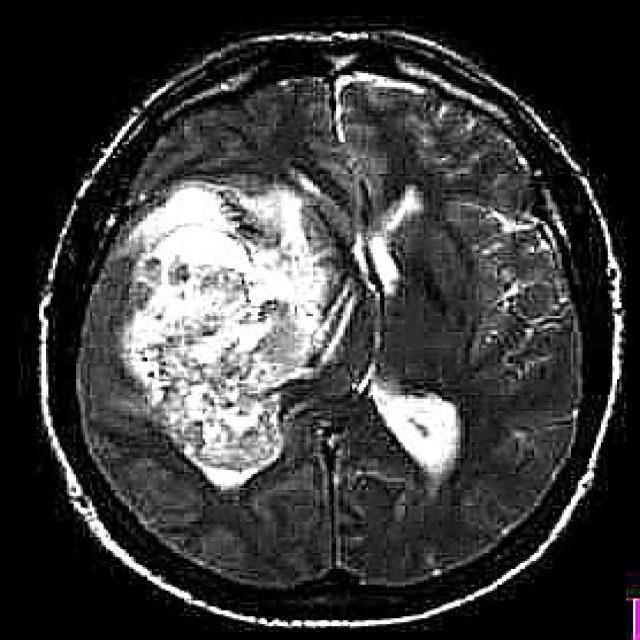brain tumor: (120, 186, 359, 492)
